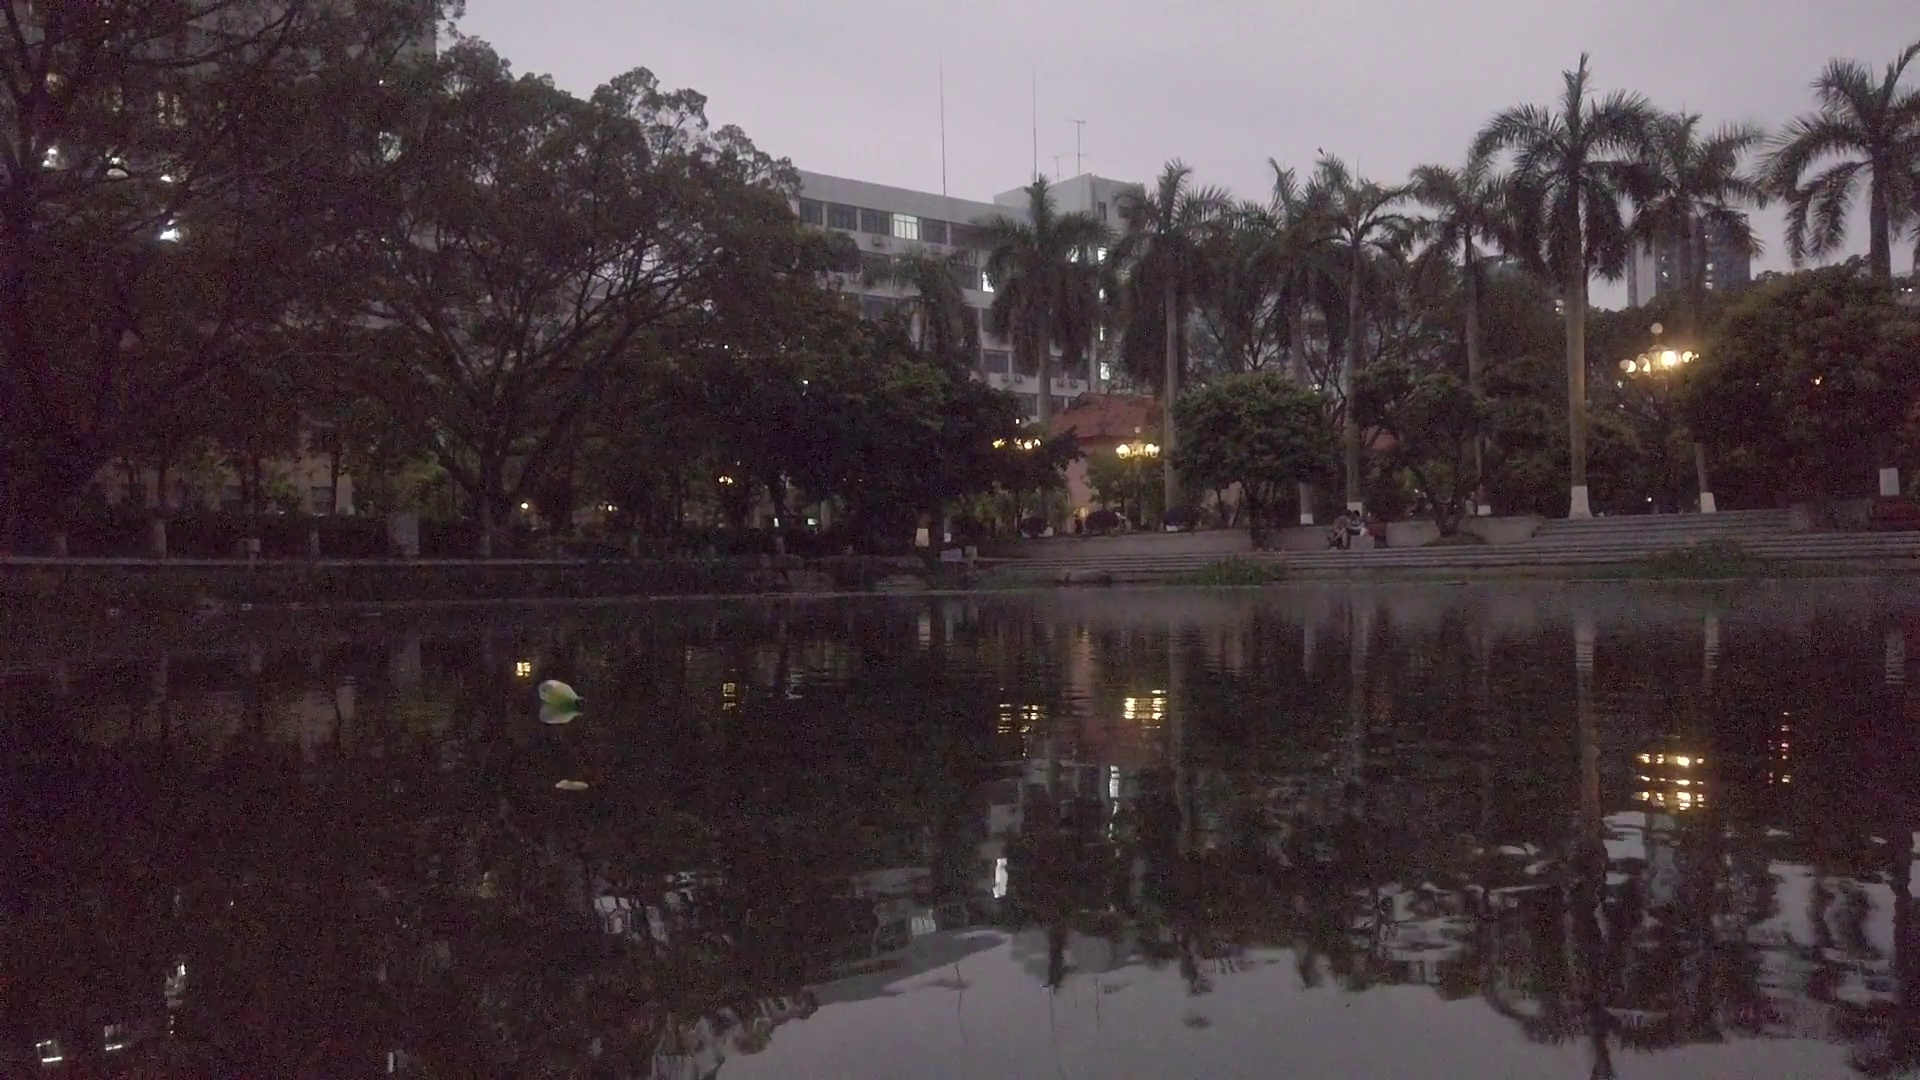bottle: (535, 678, 587, 713)
